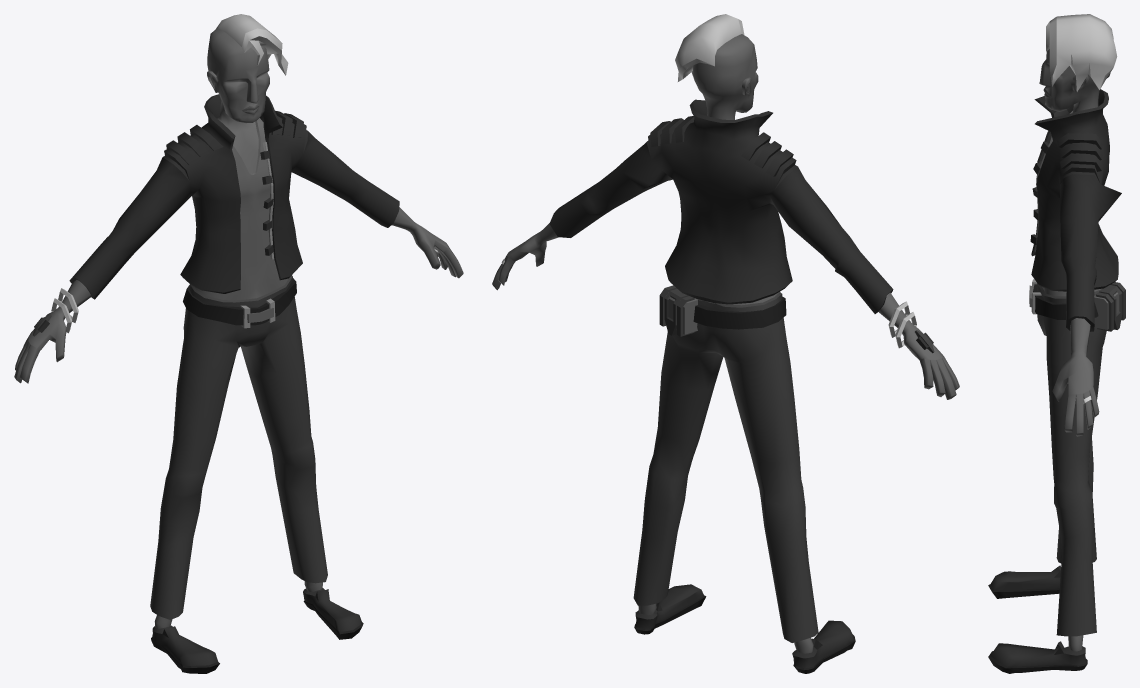
File: npc_male_B.FBX
3 renders of one model, left to right at view 1: azimuth 30°, elevation 25°; view 2: azimuth 150°, elevation 25°; view 3: azimuth 270°, elevation 25°, orthographic. The views are drawn at different scales.
Visible parts, largest first — view 1: npc_male_B; view 2: npc_male_B; view 3: npc_male_B.
Boxes of the visible parts, x1,y1,x2,y2 form: npc_male_B: (14, 14, 463, 673); npc_male_B: (492, 14, 959, 673); npc_male_B: (988, 14, 1125, 673).
Size of the model in its own units: 64.95 by 84.55 by 17.13.
